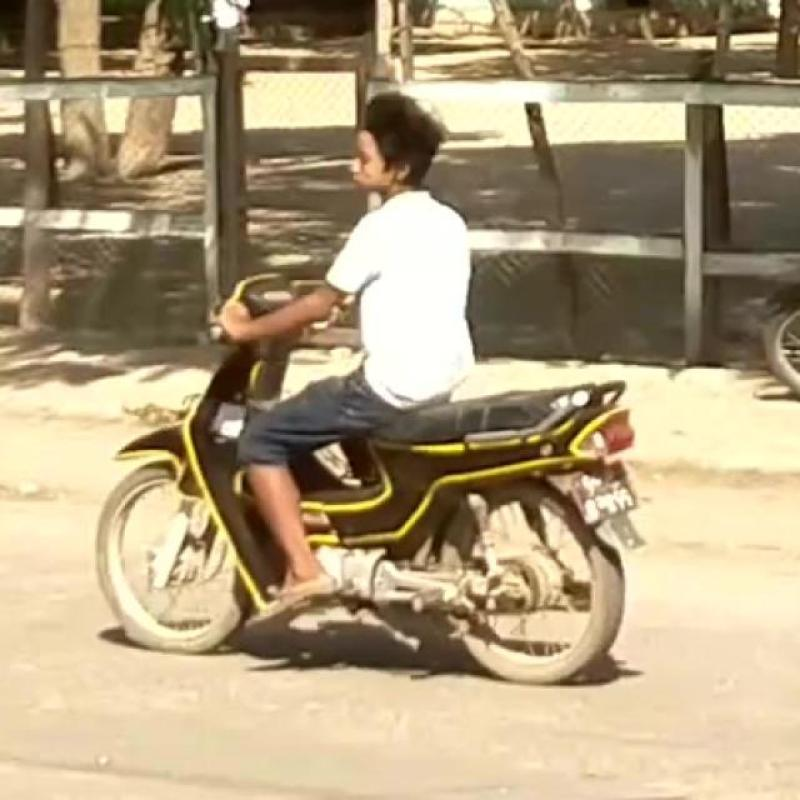nohelmet: (332, 88, 492, 214)
